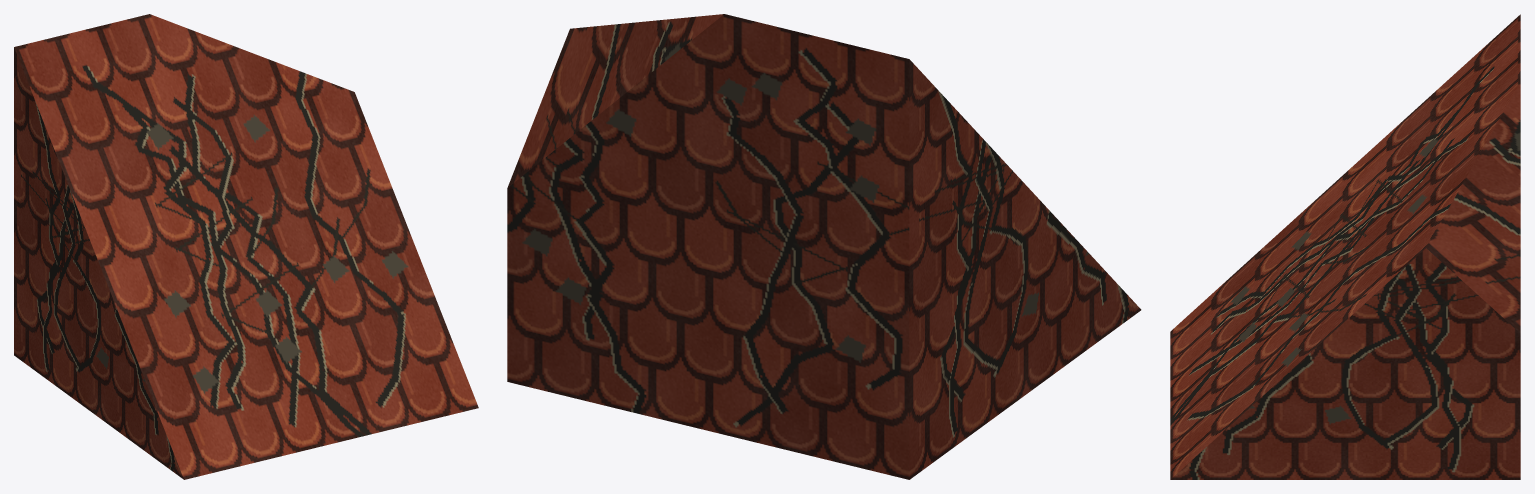
Rendered from roof_z3.glb.
3 views of the same model, side by side, from view 1: azimuth 30°, elevation 25°; view 2: azimuth 150°, elevation 25°; view 3: azimuth 270°, elevation 25° (orthographic). The views are drawn at different scales.
Visible parts, largest first — view 1: roof_z3; view 2: roof_z3; view 3: roof_z3.
Boxes of the visible parts, x1,y1,x2,y2 form: roof_z3: [14, 14, 478, 479]; roof_z3: [507, 14, 1141, 479]; roof_z3: [1170, 14, 1520, 479].
Size of the model in its own units: 1 by 1 by 1.
Materials: 1 (1 with a texture image).
